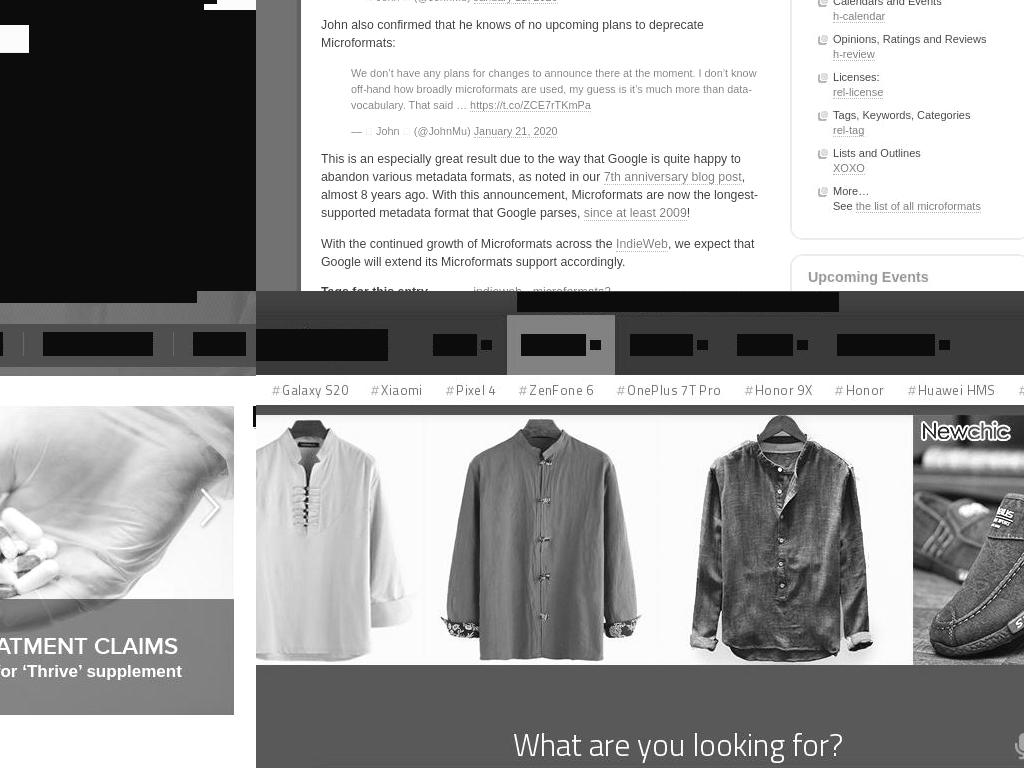button: (0, 406, 234, 716), (0, 623, 204, 661), (256, 329, 388, 361), (43, 332, 153, 356), (609, 380, 728, 400), (603, 170, 742, 186), (900, 380, 1002, 400), (264, 380, 355, 400), (511, 380, 600, 400), (855, 200, 981, 214), (470, 98, 592, 112), (583, 206, 687, 222), (737, 380, 819, 400), (364, 380, 429, 400), (438, 380, 502, 400), (193, 332, 246, 356), (828, 380, 891, 400), (473, 125, 558, 139), (616, 236, 669, 252), (833, 10, 885, 24), (833, 86, 883, 100), (833, 48, 875, 62), (532, 284, 611, 291), (833, 162, 865, 176), (833, 124, 864, 138), (473, 0, 558, 5), (473, 284, 523, 291)
field: (317, 725, 1024, 768)
heading: (0, 632, 204, 659), (0, 660, 204, 683), (808, 269, 1013, 286), (321, 284, 428, 291)
iframe: (256, 415, 1024, 665)
image: (0, 406, 234, 716), (29, 10, 256, 291), (0, 53, 256, 291), (256, 329, 388, 359), (481, 340, 492, 350), (590, 340, 601, 350), (697, 340, 708, 350), (797, 340, 808, 350), (939, 340, 950, 350)
link: (517, 292, 839, 312)
text: (321, 170, 758, 221), (351, 66, 756, 111), (321, 16, 770, 53), (321, 236, 754, 269), (321, 152, 741, 185), (0, 0, 204, 25), (321, 236, 616, 251), (818, 32, 1013, 48), (818, 70, 1013, 86), (818, 108, 1013, 124), (818, 146, 1013, 162), (818, 184, 1013, 200), (837, 334, 935, 356), (818, 0, 1013, 10), (351, 125, 474, 138), (521, 334, 586, 356), (630, 334, 693, 356), (737, 334, 793, 356), (433, 334, 477, 356), (0, 0, 154, 4), (351, 0, 474, 4), (833, 200, 856, 213), (153, 0, 178, 4), (686, 206, 690, 221), (521, 284, 529, 291)
